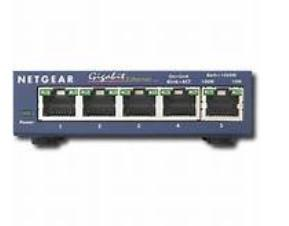NetworkSwitch: (12, 70, 256, 146)
